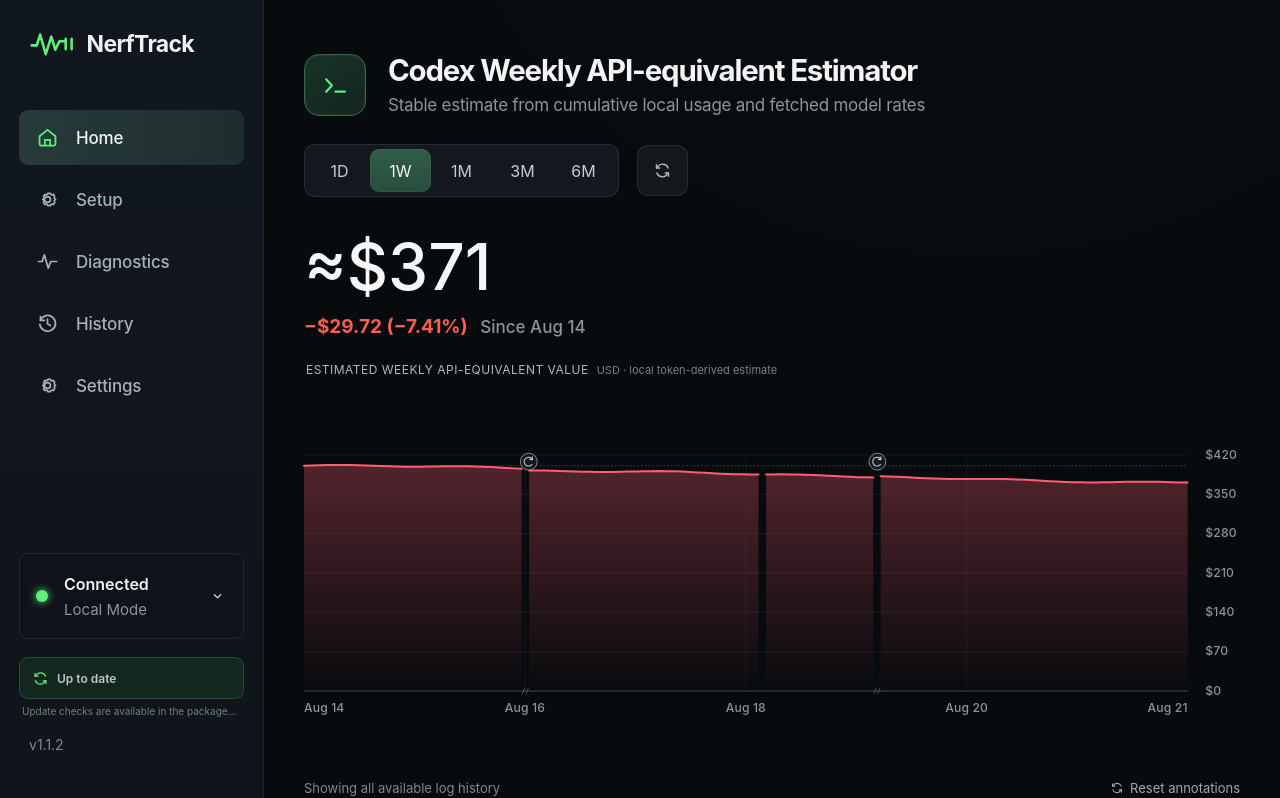
NerfTrack app shell › offers fast checkpoint restore and a separate full log import
Click the button "Settings".
click(132, 386)  # box [19,358,244,413]
(page scrolled)
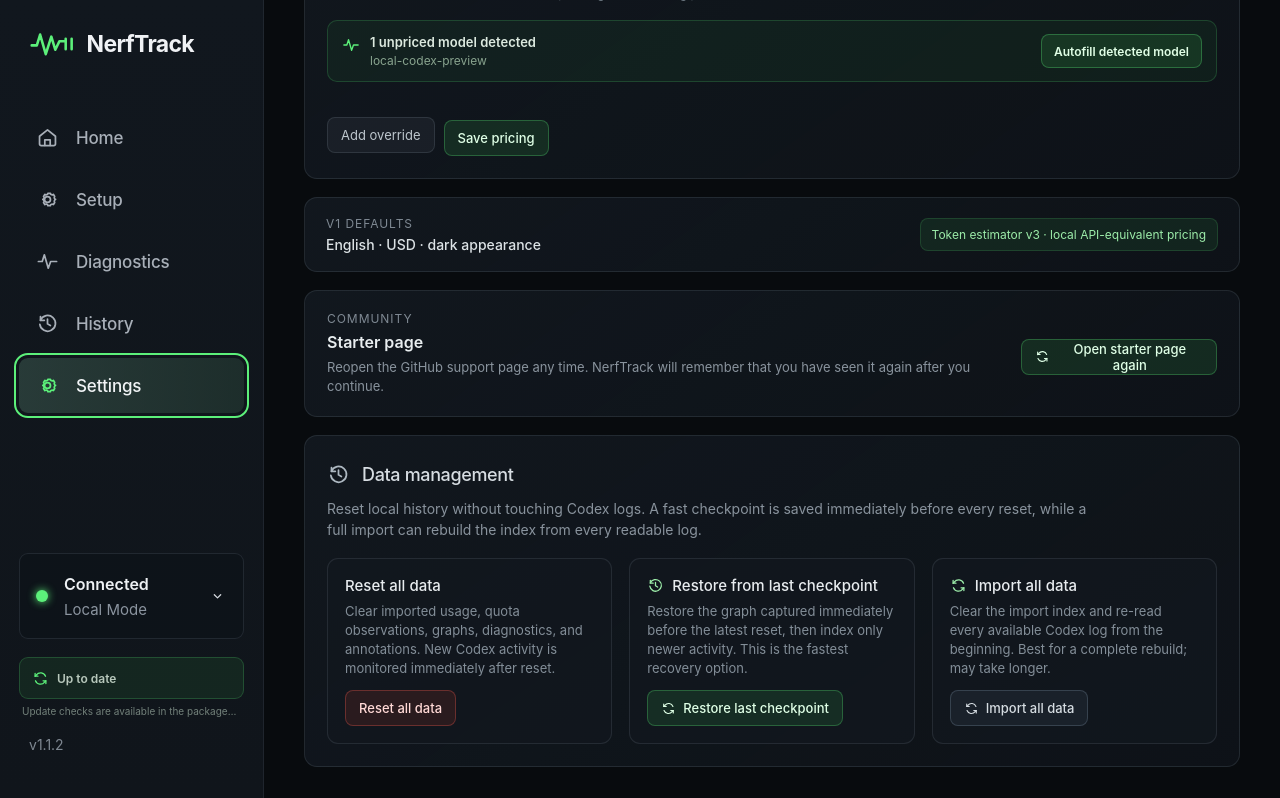
Check: the button "Restore last checkpoint" is shown, box [647,690,843,726]
Check: the button "Import all data" is shown, box [950,690,1088,726]
Check: the text "fastest recovery option" is shown, box [647,603,893,676]
